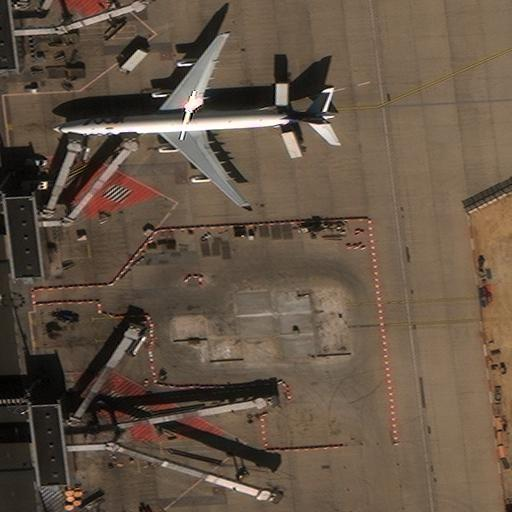Large Civil Transport: (54, 34, 335, 207)
